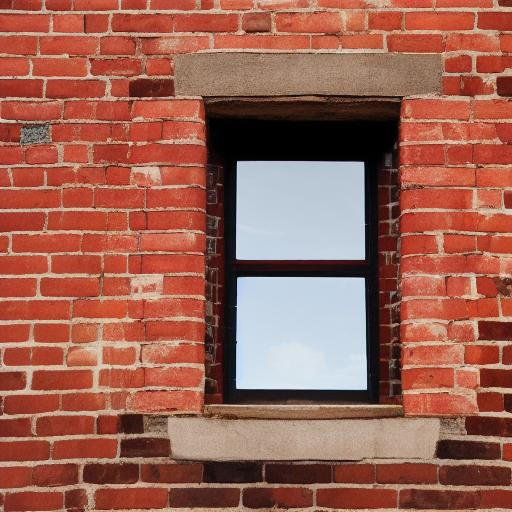Window: (165, 51, 446, 464)
